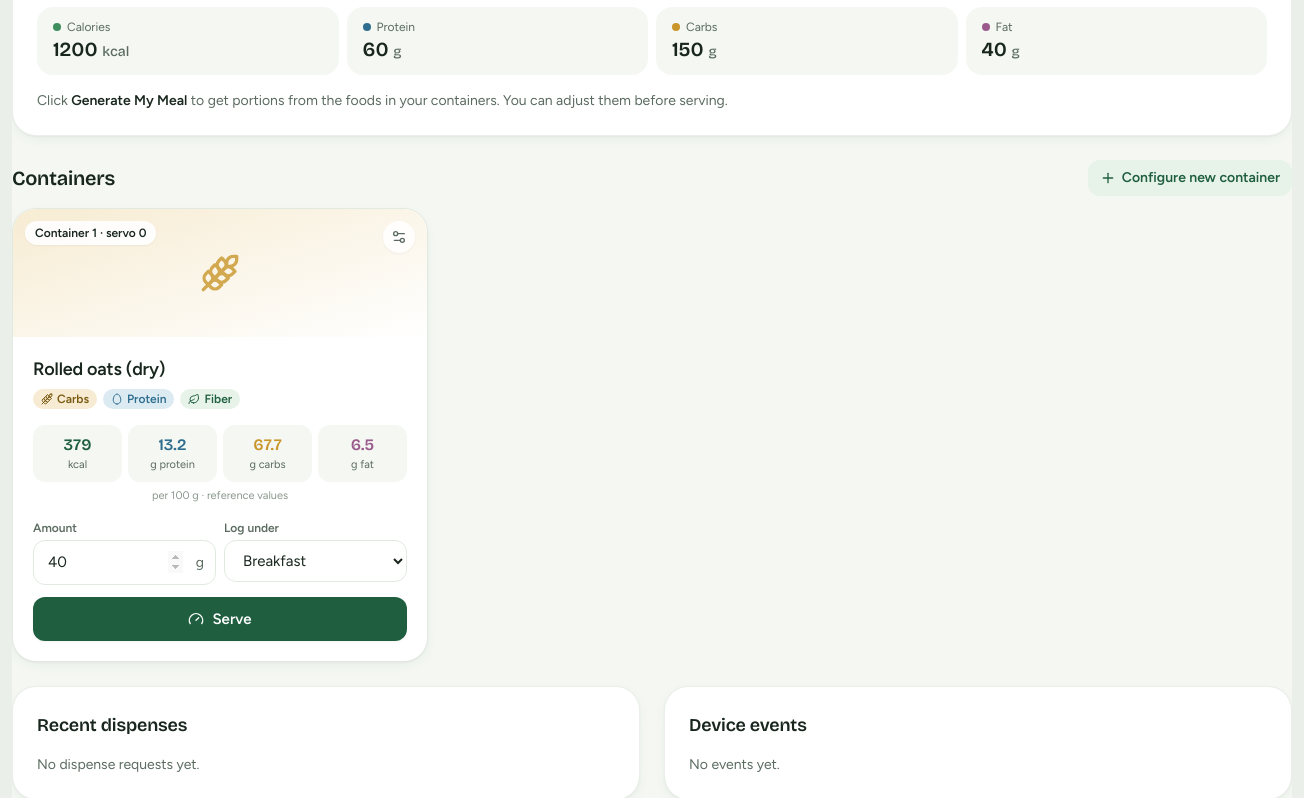
it: Smart Dispenser page › serves one food and shows requested vs measured with tolerance and nutrition
(page scrolled)
Step 1. Replace the text in the number field named "Grams of Rolled oats (dry)" with "100" → (124, 563), box [33,540,216,585]
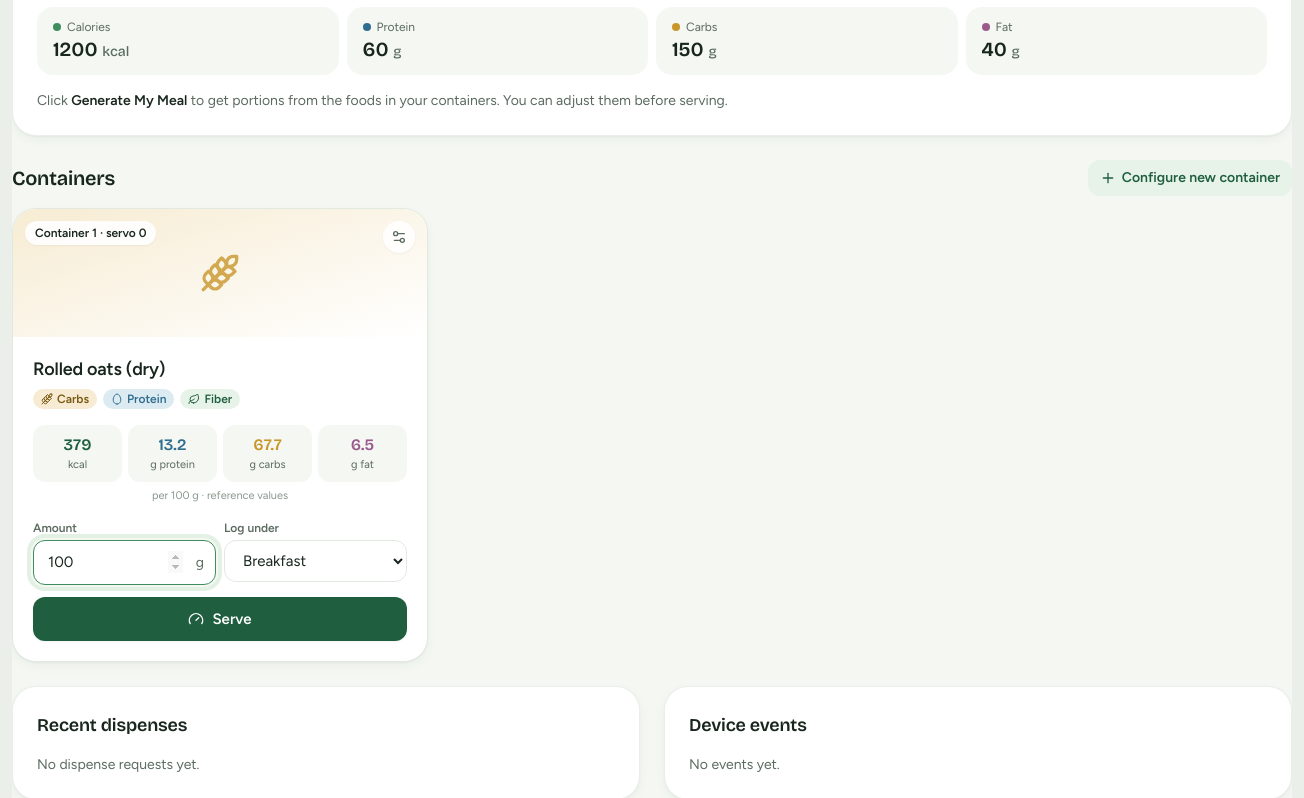
Step 2. Click the button with aria-label "Serve Rolled oats (dry)" → (220, 619), box [33,597,407,641]
(page scrolled)
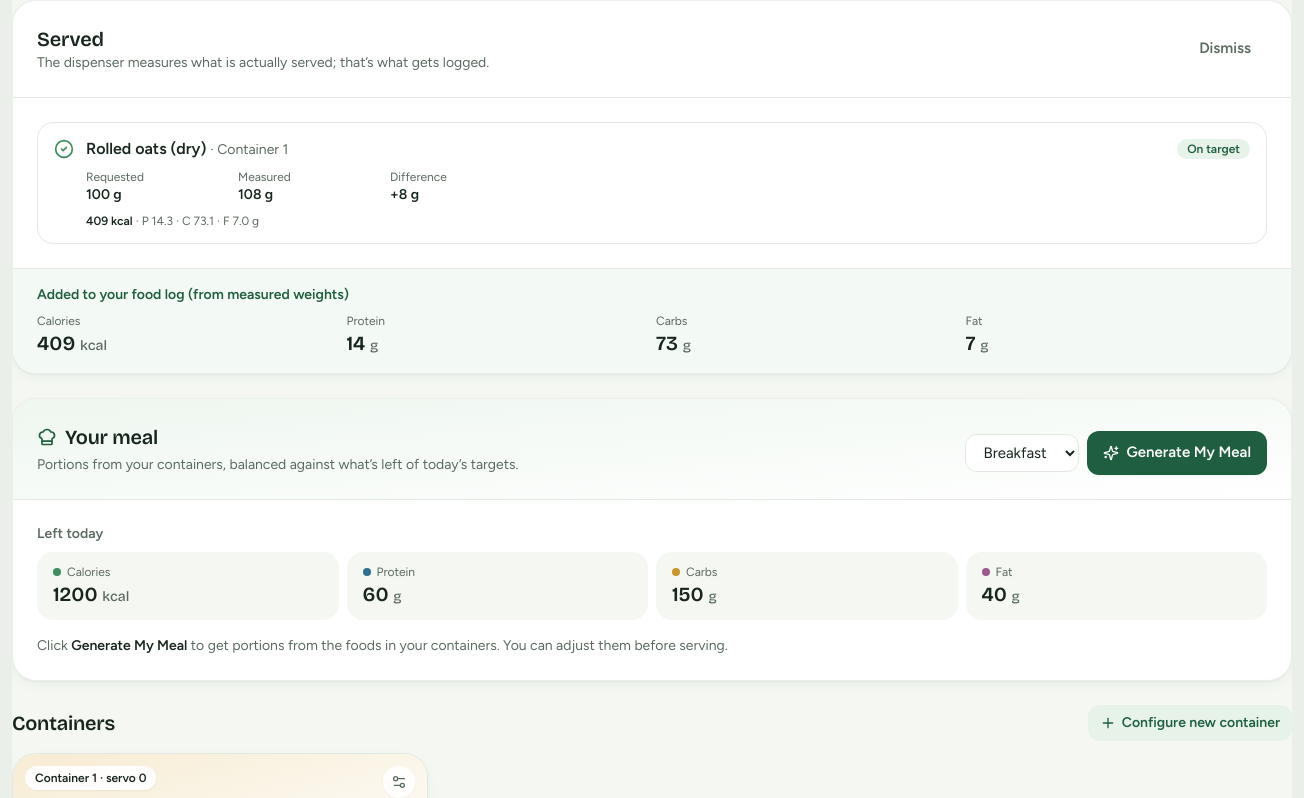
Check: the text "108 g" is shown, box [238,186,273,202]
Check: the text "+8 g" is shown, box [390,186,419,202]
Check: the text "On target" is shown, box [1177,138,1250,158]
